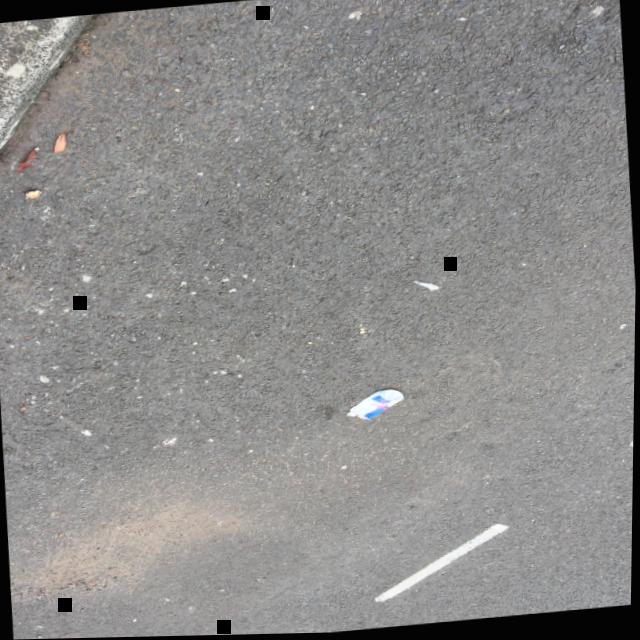Drink can: (347, 390, 404, 420)
Unlabeled litter: (413, 281, 439, 292)
